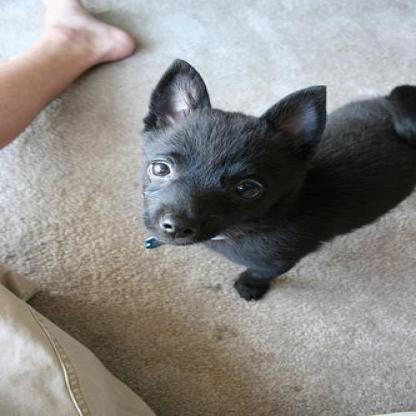schipperke: (132, 54, 412, 300)
